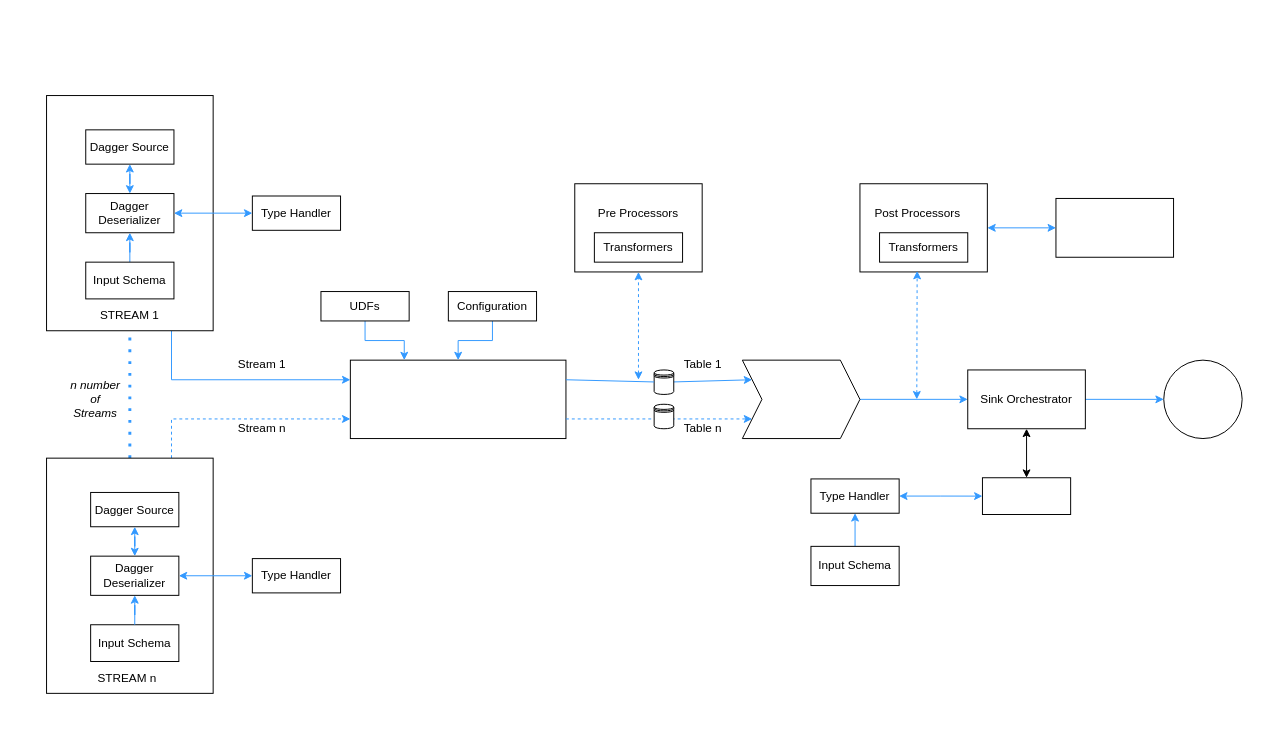
The diagram is 1278 pixels wide and 729 high, and some of its shapes have lost their labels. Each missing label, with the centre of its shape:
Dagger Serializer: the point at 1026,495
External Data Stores: the point at 1114,227
Sink: the point at 1202,399
SQL Query Execution: the point at 800,399
Stream Manager: the point at 457,399
